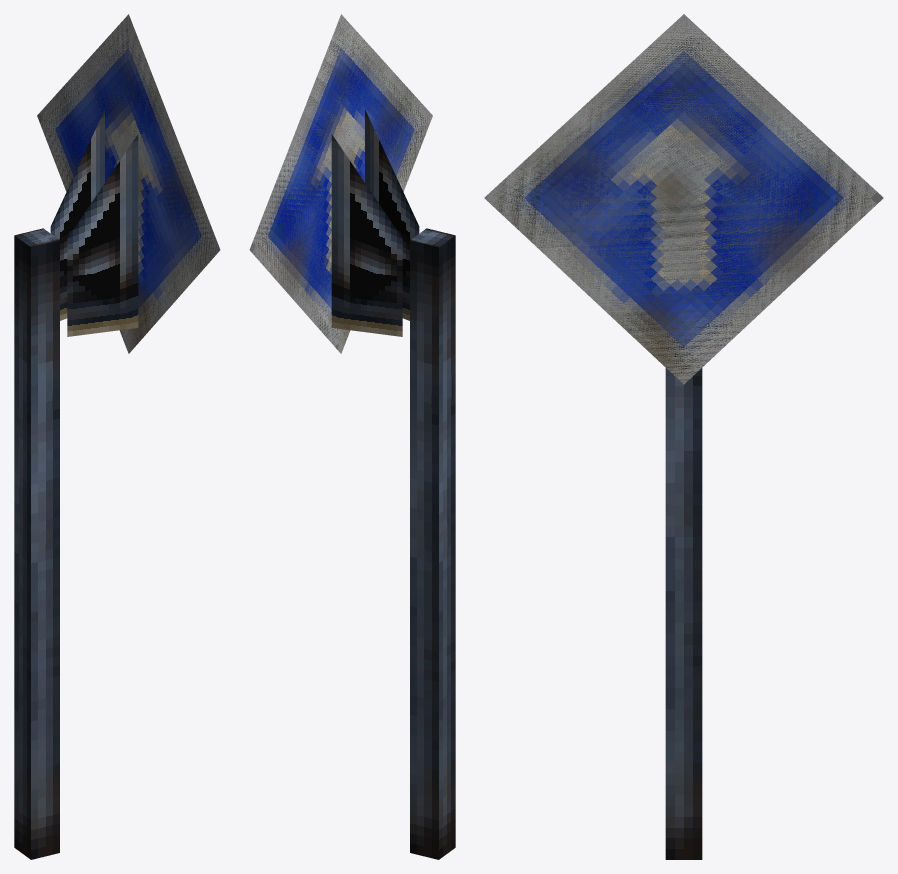
3 views of the same model, side by side, from view 1: azimuth 30°, elevation 25°; view 2: azimuth 150°, elevation 25°; view 3: azimuth 270°, elevation 25° (orthographic). The views are drawn at different scales.
Parts seen in each view (by area): view 1: prim052-roadsign01; view 2: prim052-roadsign01; view 3: prim052-roadsign01.
Part boxes in pixels (x1,y1,x2,y2): prim052-roadsign01: [14, 14, 220, 859]; prim052-roadsign01: [249, 14, 455, 859]; prim052-roadsign01: [484, 14, 883, 859].
Bounding box in the file's own units: 44 × 323 × 132.
Materials: 4 (4 with a texture image).
